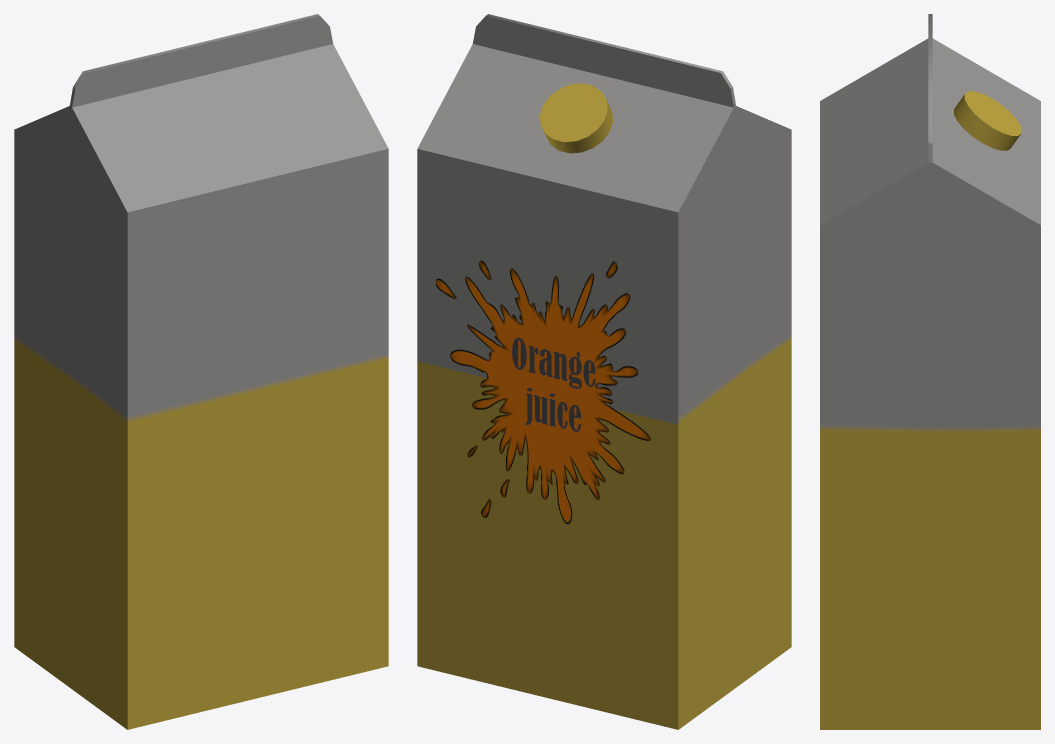
File: Juice.fbx
3 renders of one model, left to right at view 1: azimuth 30°, elevation 25°; view 2: azimuth 150°, elevation 25°; view 3: azimuth 270°, elevation 25°, orthographic. The views are drawn at different scales.
Visible parts, largest first — view 1: Box001; view 2: Box001; view 3: Box001.
Part boxes in pixels (box(x1,y1,x2,y2)): Box001: box(14, 14, 388, 729); Box001: box(417, 14, 791, 729); Box001: box(820, 14, 1040, 729).
Bounding box in the file's own units: 17.43 × 39.12 × 13.09.
1 material, 1 textured.
